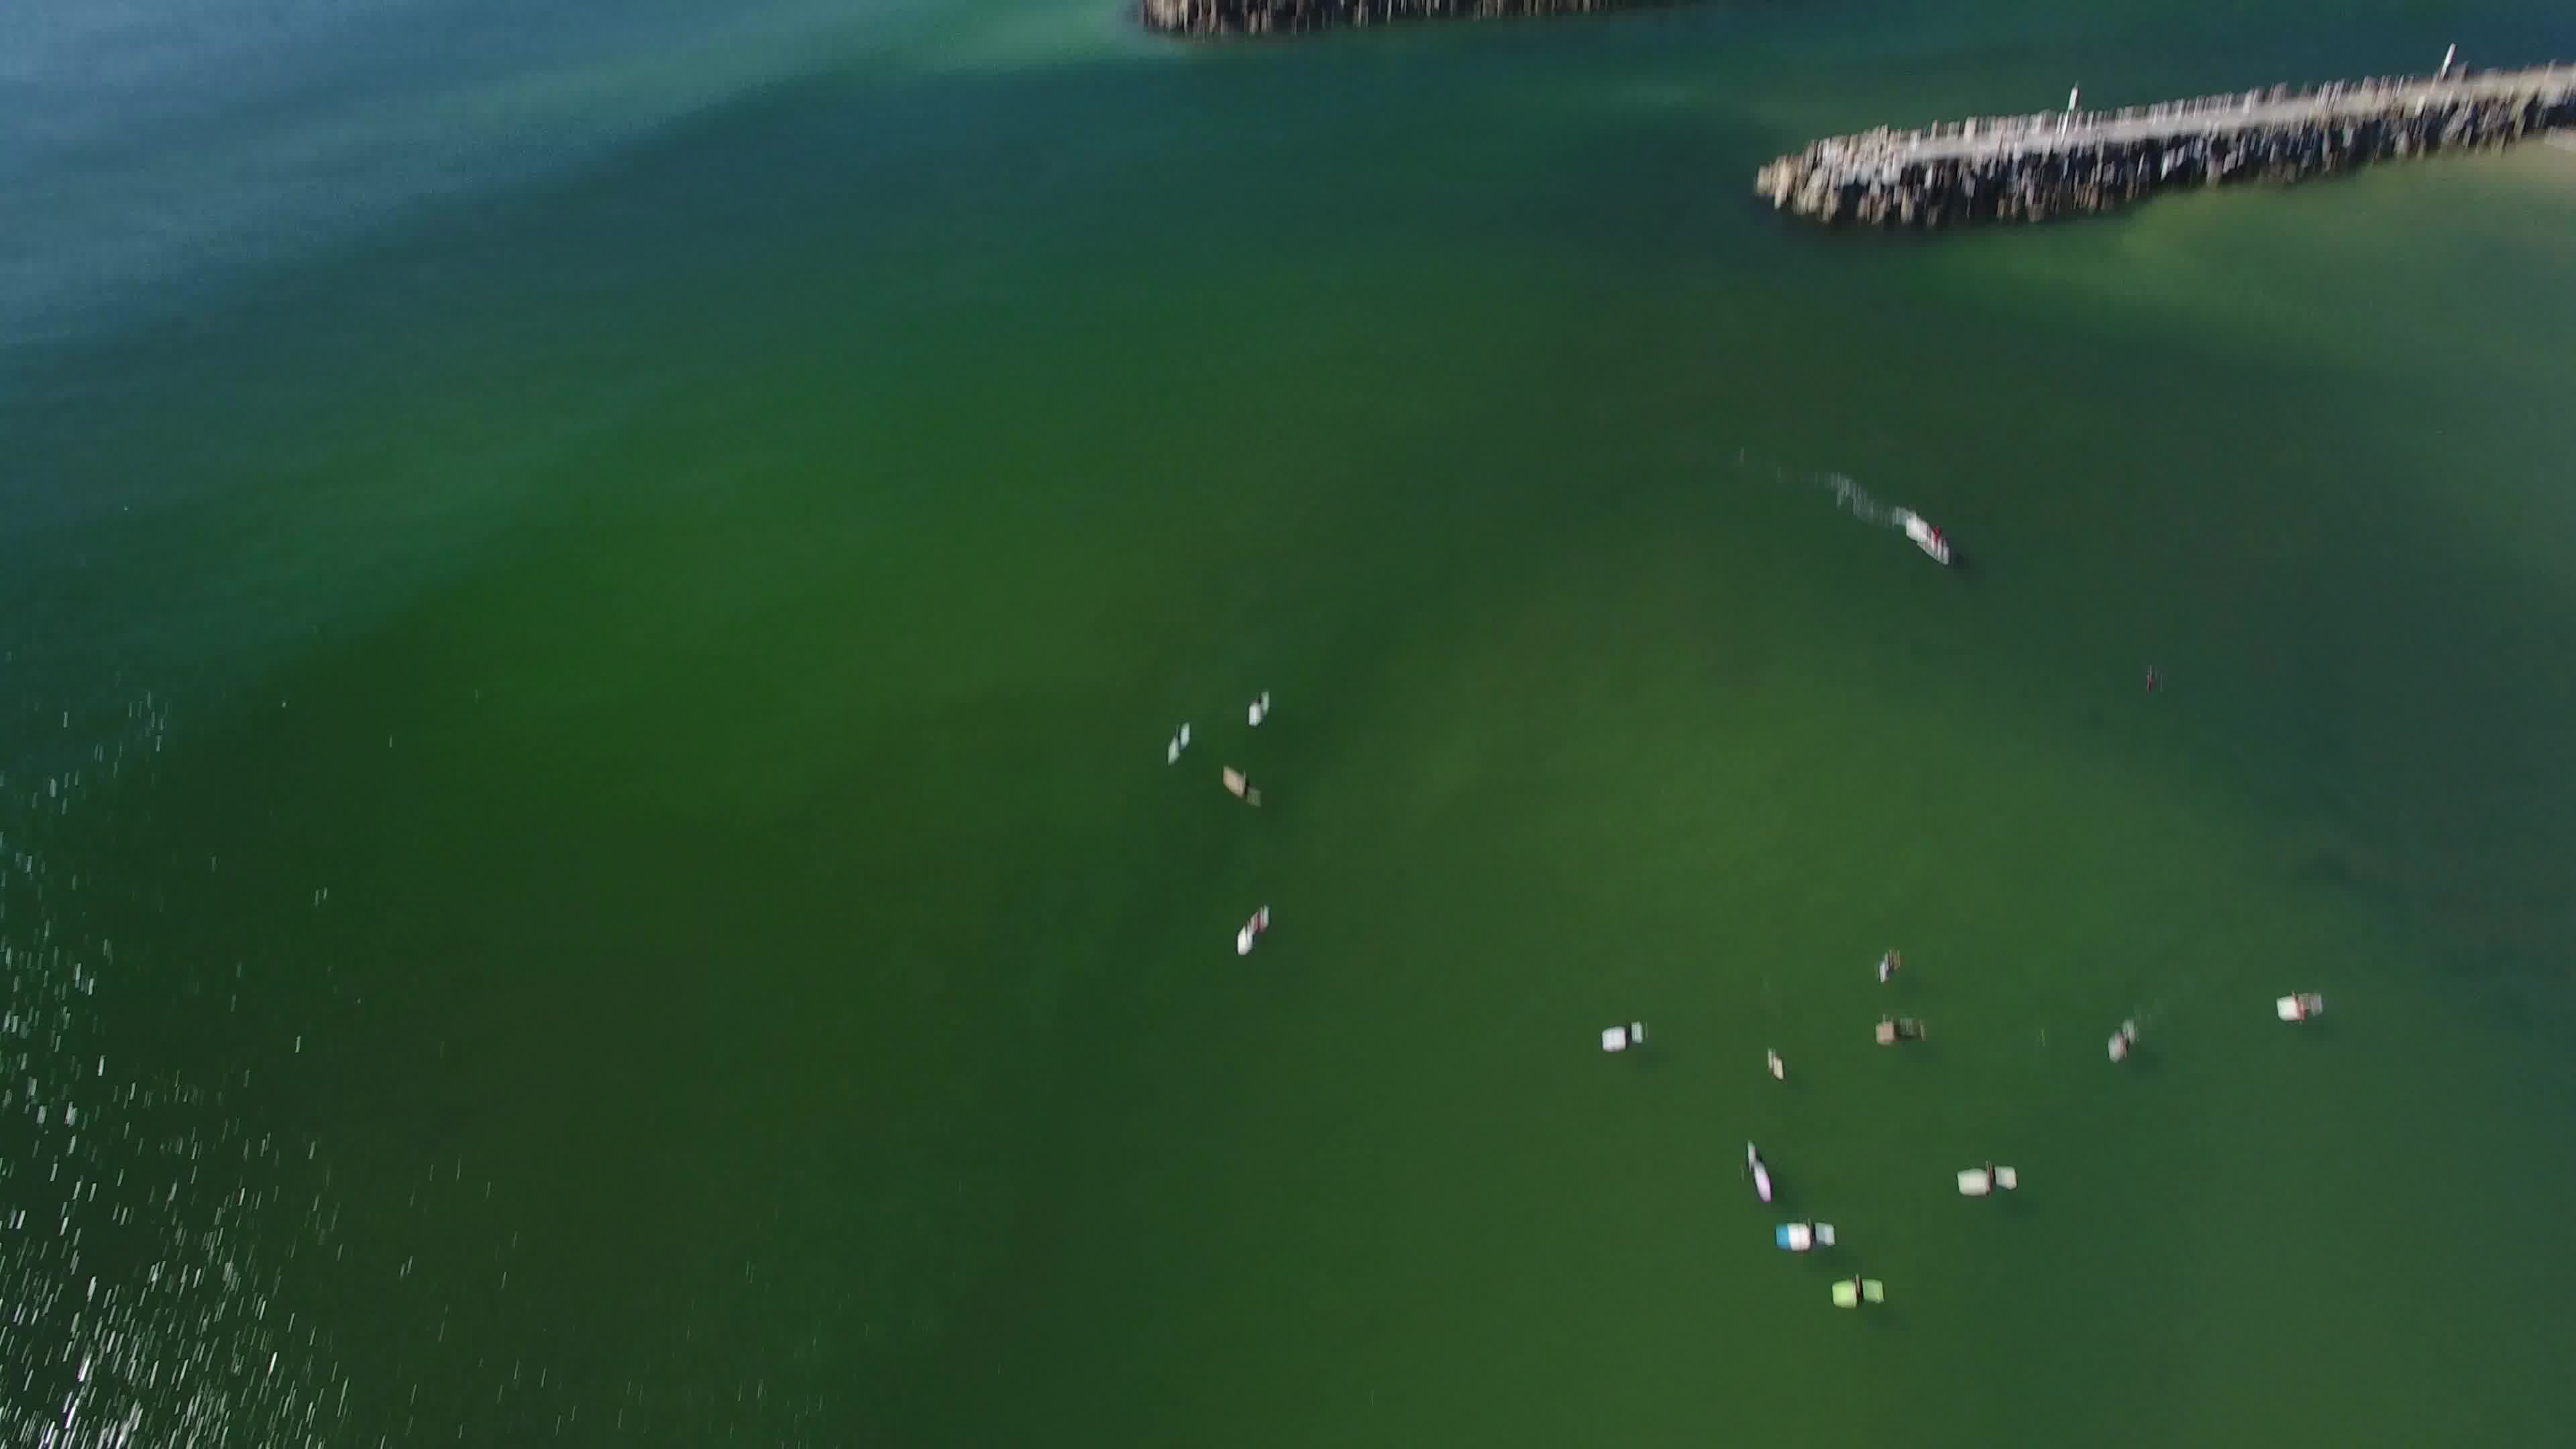surfer: (1951, 1148, 2026, 1203), (1587, 1007, 1652, 1058), (1767, 1212, 1840, 1258), (2265, 985, 2332, 1030), (1737, 1141, 1782, 1207), (1215, 761, 1274, 810), (1233, 901, 1279, 962), (1868, 1012, 1932, 1051), (1826, 1277, 1890, 1316), (1164, 717, 1196, 771), (2105, 1024, 2148, 1065), (1868, 947, 1904, 987), (1759, 1049, 1794, 1083), (1247, 690, 1276, 731)
